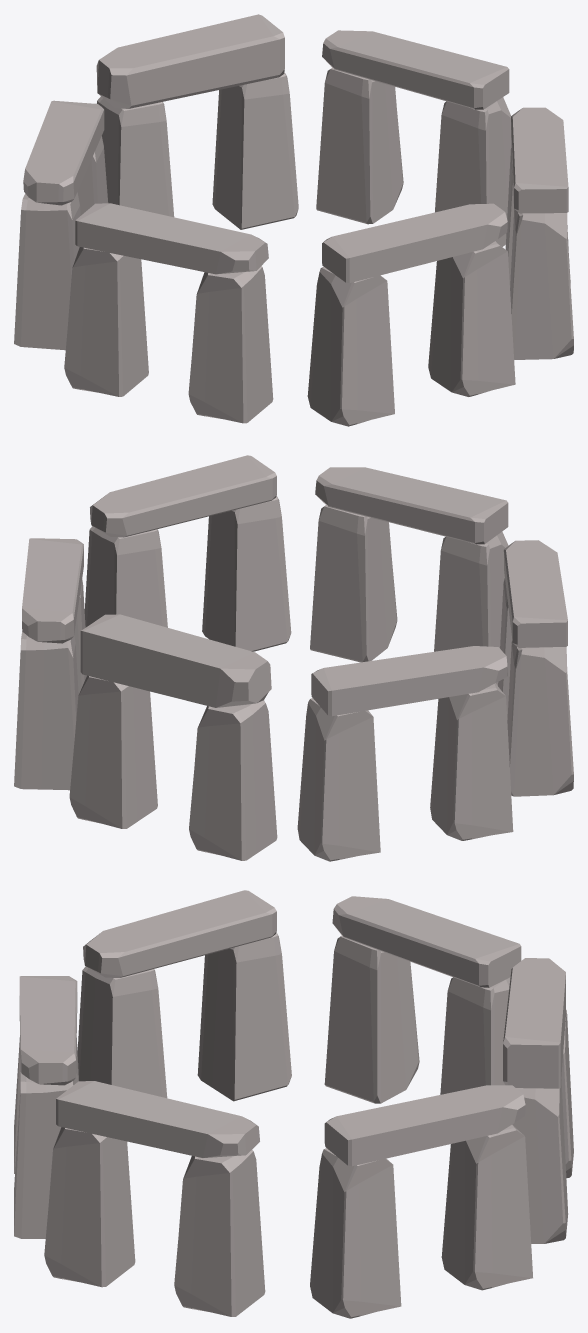
Rendered from StoneHenge_Set2.fbx.
The picture shows the model from 3 angles, top to bottom: view 1: azimuth 30°, elevation 25°; view 2: azimuth 150°, elevation 25°; view 3: azimuth 270°, elevation 25°; orthographic projection. The views are drawn at different scales.
Parts seen in each view (by area): view 1: StoneHenge2_Complete; view 2: StoneHenge2_Complete; view 3: StoneHenge2_Complete.
Part boxes in pixels (x1,y1,x2,y2): StoneHenge2_Complete: (14,14,573,426); StoneHenge2_Complete: (14,455,573,861); StoneHenge2_Complete: (14,890,573,1318).
Bounding box in the file's own units: 871 × 796 × 308.
